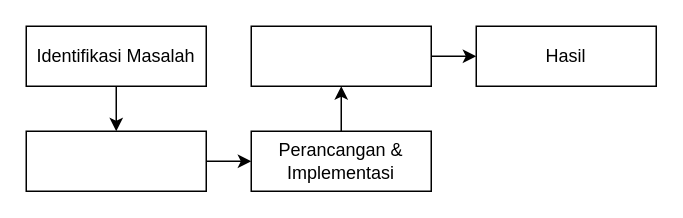
Image size: 683x218. Some labels were removed from this diagram. Each missing label, with the centre of its shape:
"Analisis Kebutuhan" goes at [115,160].
"Pengujian" goes at [340,55].
